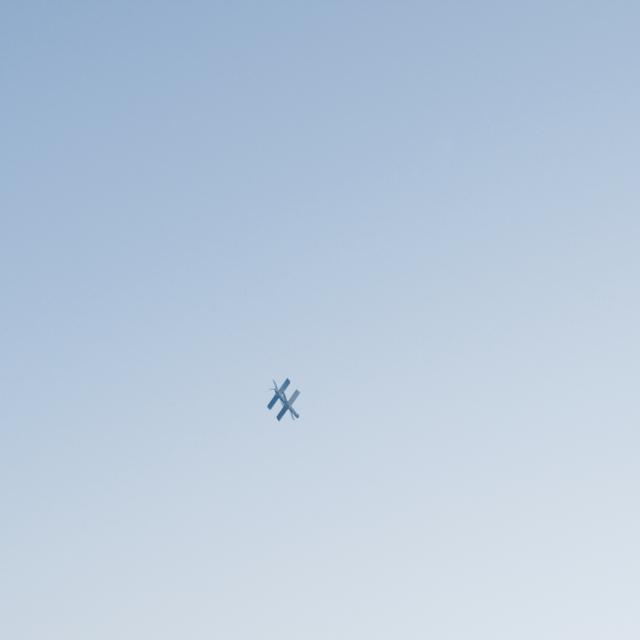Airaplan: (267, 378, 301, 422)
